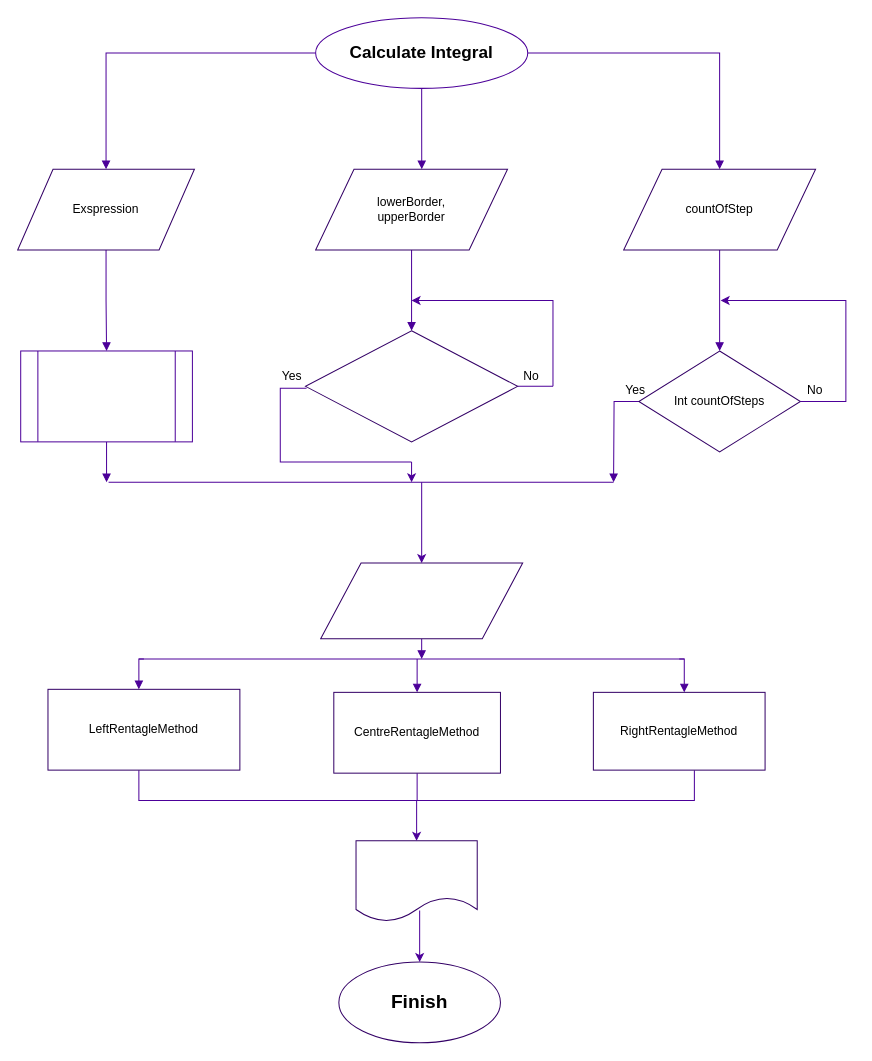
Image size: 872x1061. Some labels were removed from this diagram. The centre of each missing label's shape, as x and y in pixels:
ConvertionToRPN: point 106,396
Integral: point 421,600
lowerBorder<=upperBorder: point 411,386
Result: point 416,881
